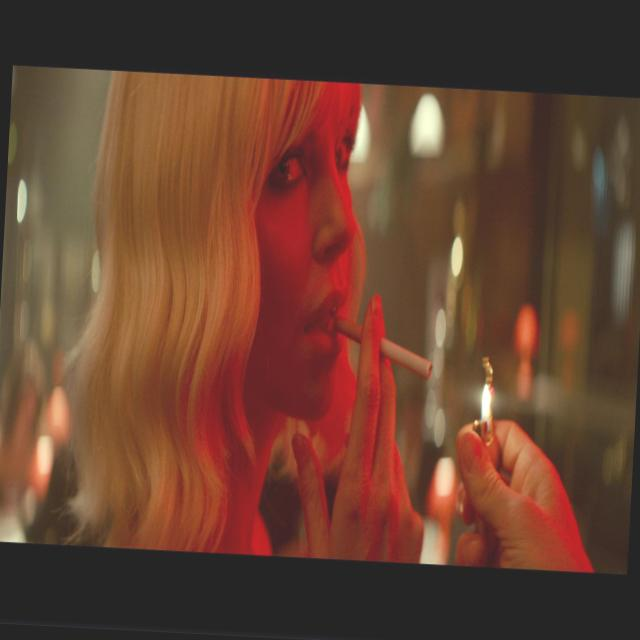cigarette: (319, 281, 448, 422)
